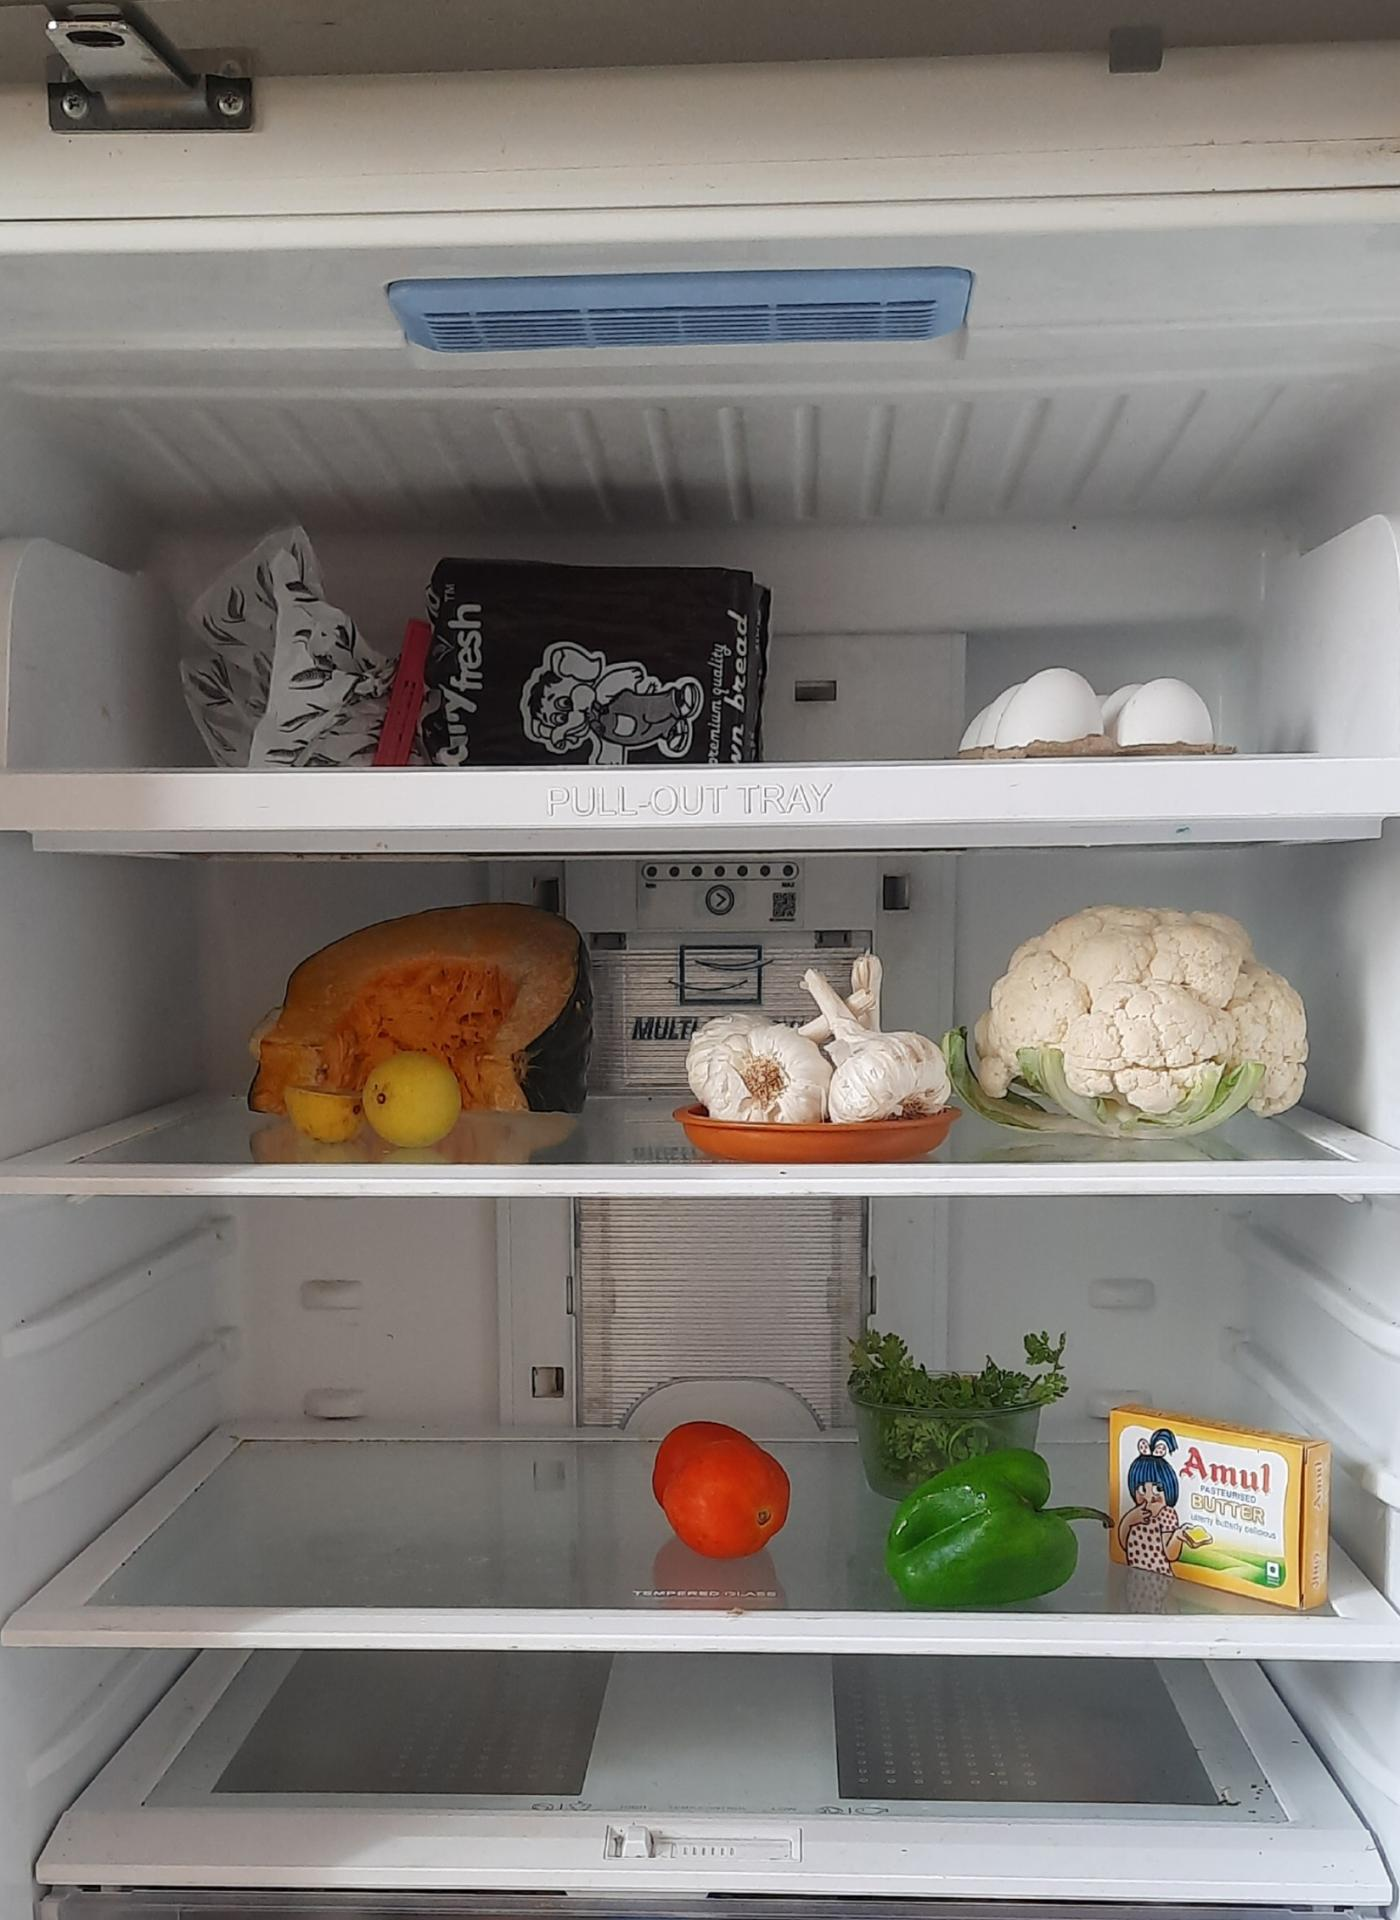bread: (194, 528, 771, 765)
butter: (1114, 1407, 1317, 1607)
capsicum: (881, 1452, 1085, 1601)
cauliflower: (986, 899, 1328, 1148)
coriander: (857, 1321, 1068, 1482)
egg: (951, 656, 1243, 769)
garlic: (692, 953, 959, 1161)
lemon: (370, 1048, 476, 1179)
pumpkin: (242, 893, 577, 1117)
tomato: (660, 1418, 795, 1556)
